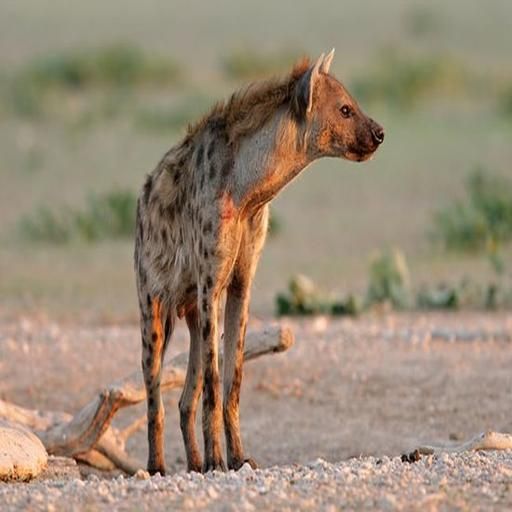Hyena: (123, 40, 396, 476)
